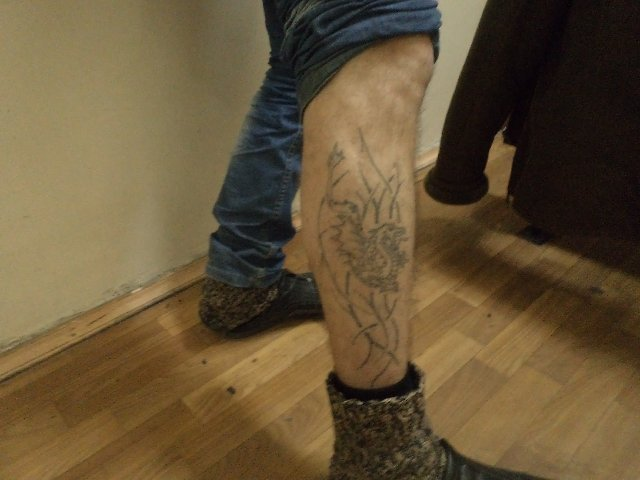tatu6_drakon: (313, 124, 434, 390)
